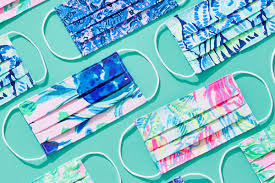cloth_mask: (118, 70, 273, 181)
